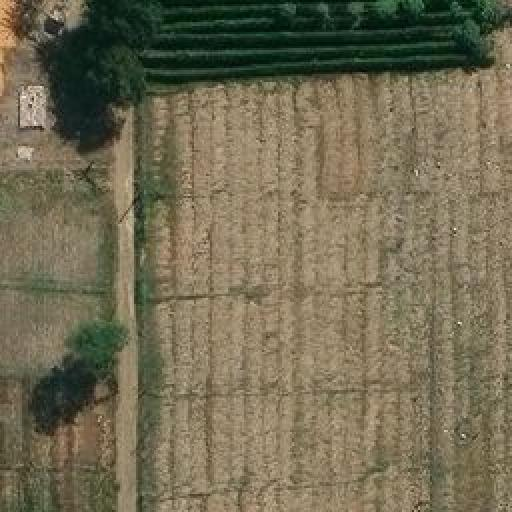manzanas: (17, 84, 55, 164)
